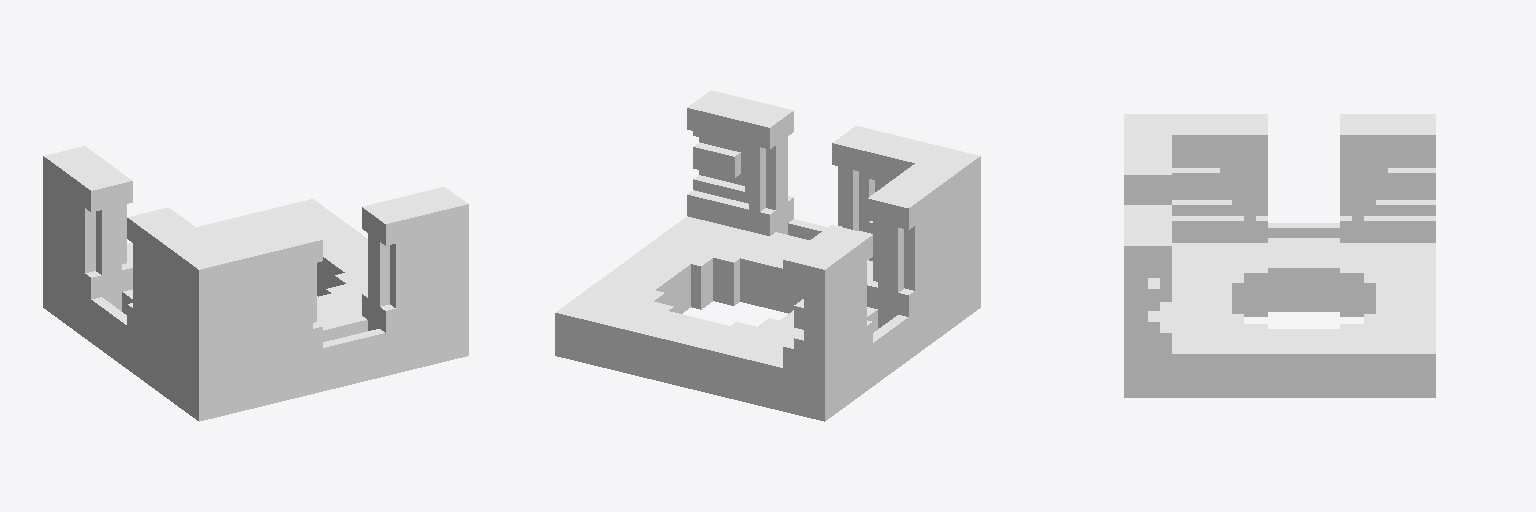
The model's file is Room_Special.obj.
The picture shows the model from 3 angles: view 1: azimuth 30°, elevation 25°; view 2: azimuth 150°, elevation 25°; view 3: azimuth 270°, elevation 25°; orthographic projection.
Visible parts, largest first — view 1: Room_Special; view 2: Room_Special; view 3: Room_Special.
Part boxes in pixels (x1,y1,x2,y2): Room_Special: (43,146,468,421); Room_Special: (555,90,980,421); Room_Special: (1124,114,1435,397).
Size of the model in its own units: 26 by 14 by 26.